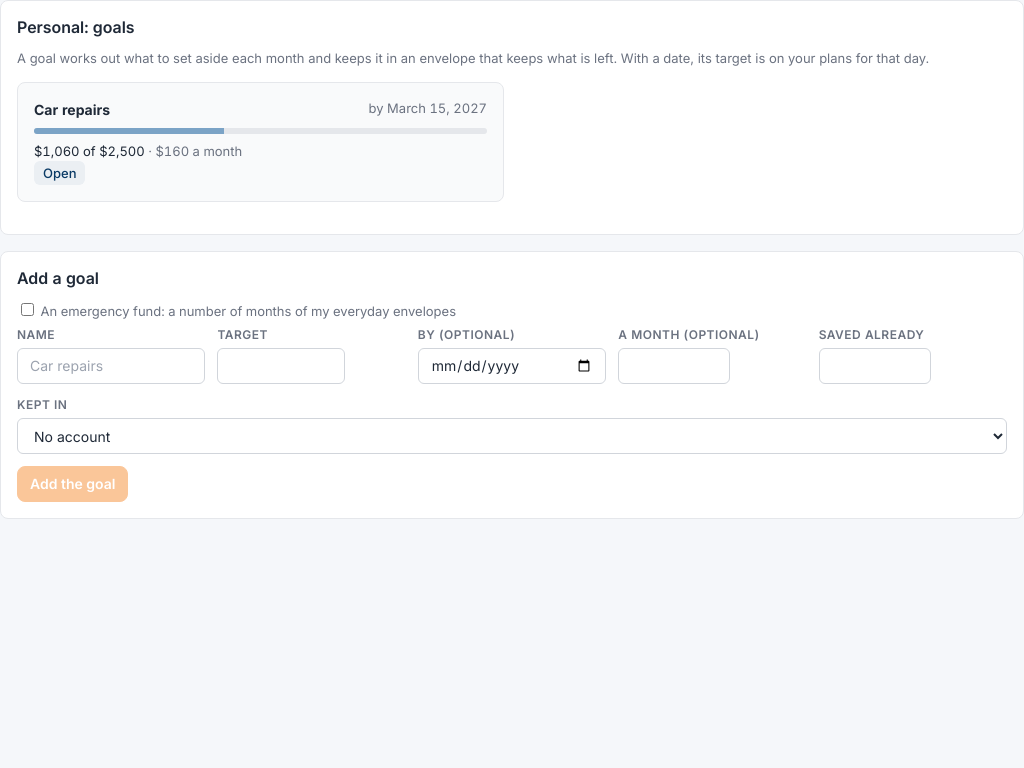
Test: goals (decision 14) › lists each goal with its progress, opens one, and adds one
This screenshot has width=1024, height=768.
Expected: the text "$1,060 of $2,500 · $160 a month" is shown, [34, 142, 242, 158]
Click the button "Open" at (60, 173), box [34, 161, 86, 185]
(page scrolled)
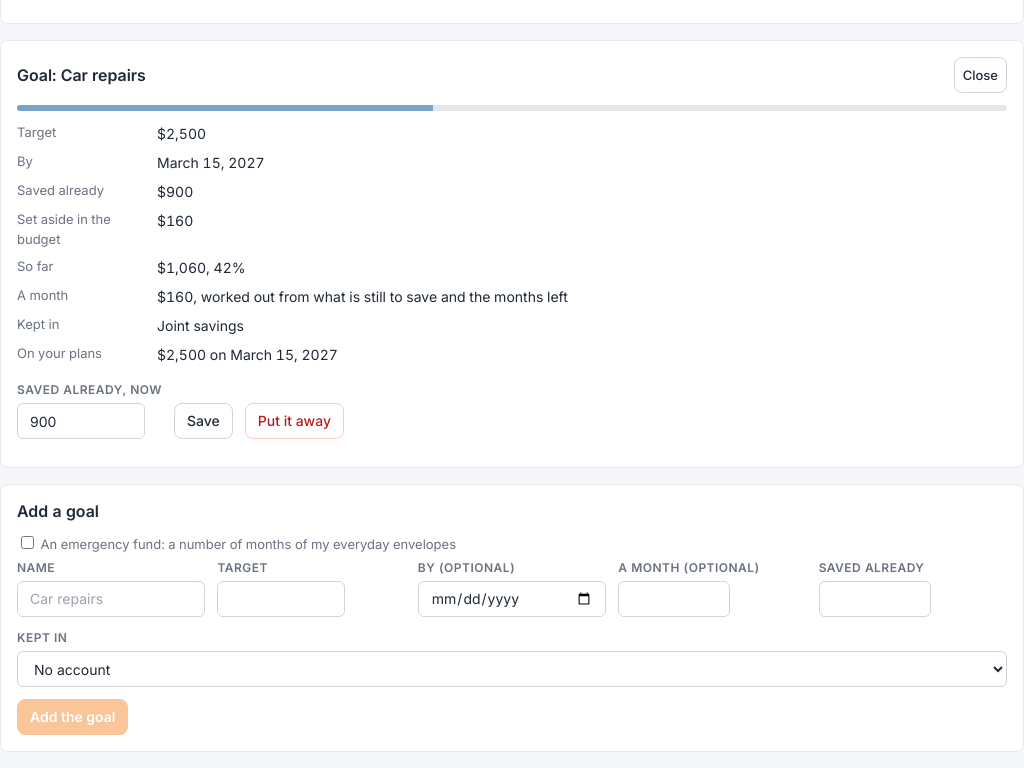
Result: the text "$2,500 on March 15, 2027" is shown at [157, 346, 338, 363]
Result: the text "Joint savings" is shown at [157, 317, 244, 334]
Type "Vacation" into the field named "Goal name" at (111, 598), box [17, 580, 205, 616]
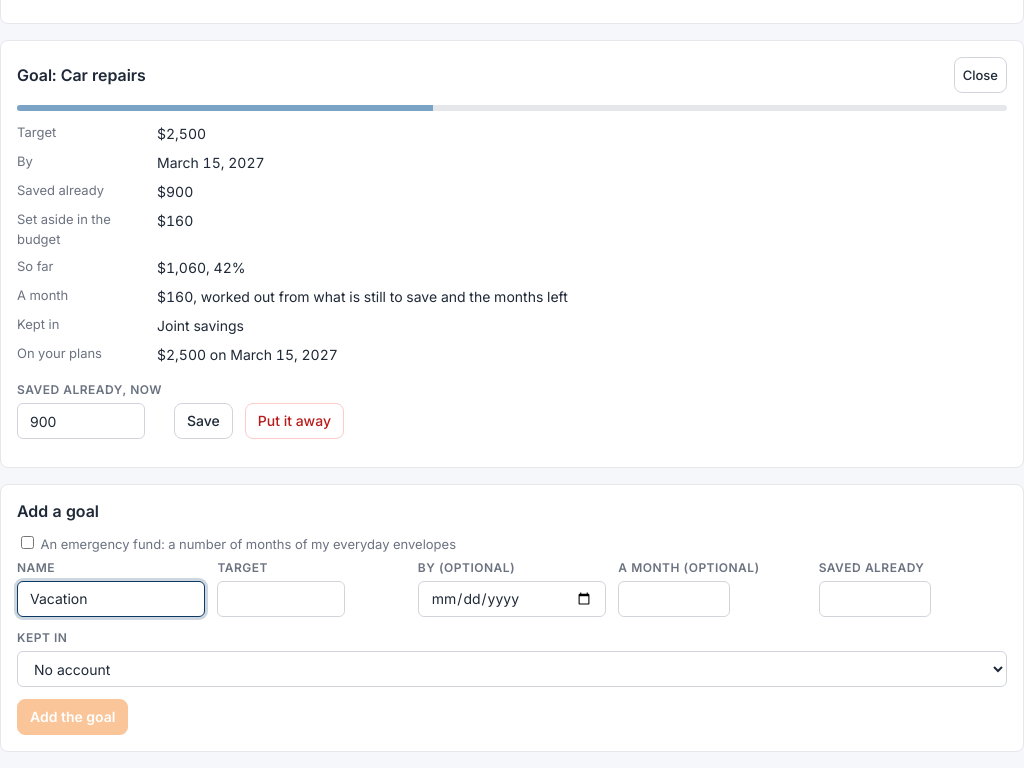
Type "4000" into the field named "Target amount" at (281, 598), box [217, 580, 345, 616]
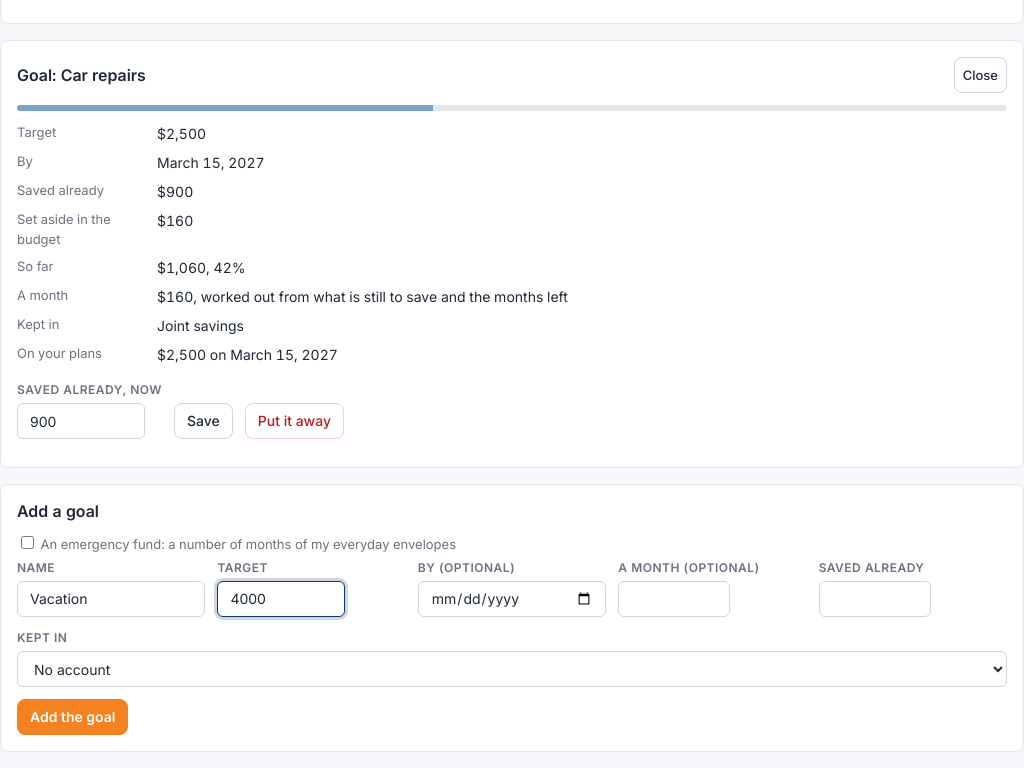
Type "250" into the field named "Amount a month" at (674, 598), box [618, 580, 730, 616]
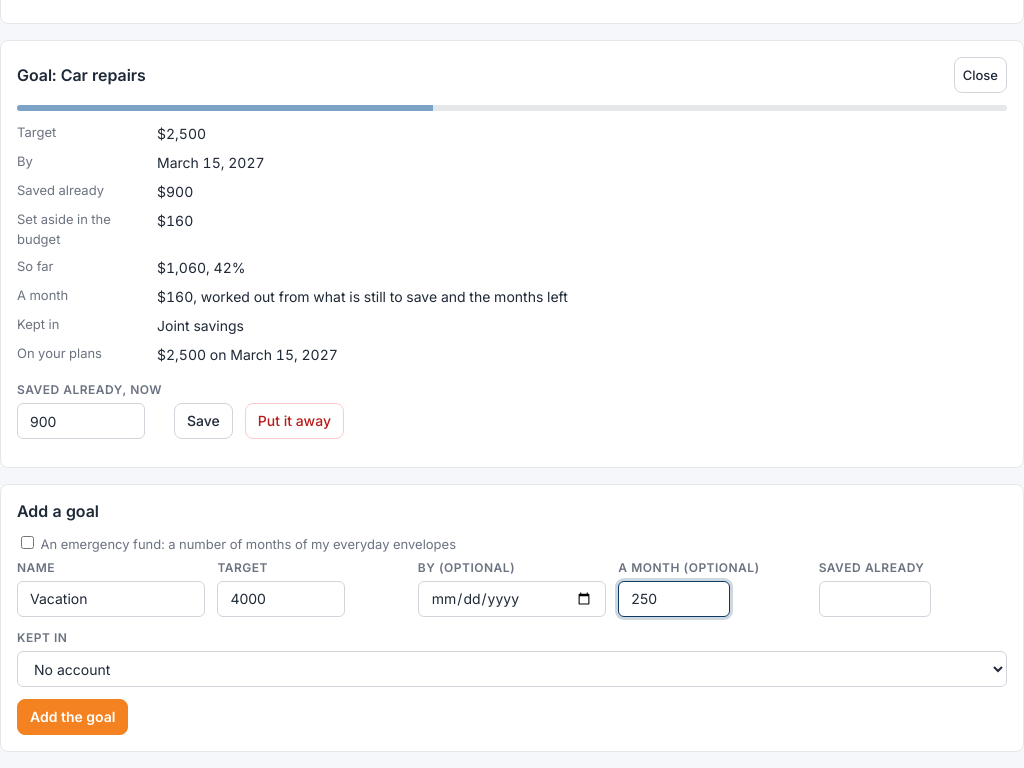
Click the button "Add the goal" at (73, 716), box [17, 698, 128, 734]
(page scrolled)
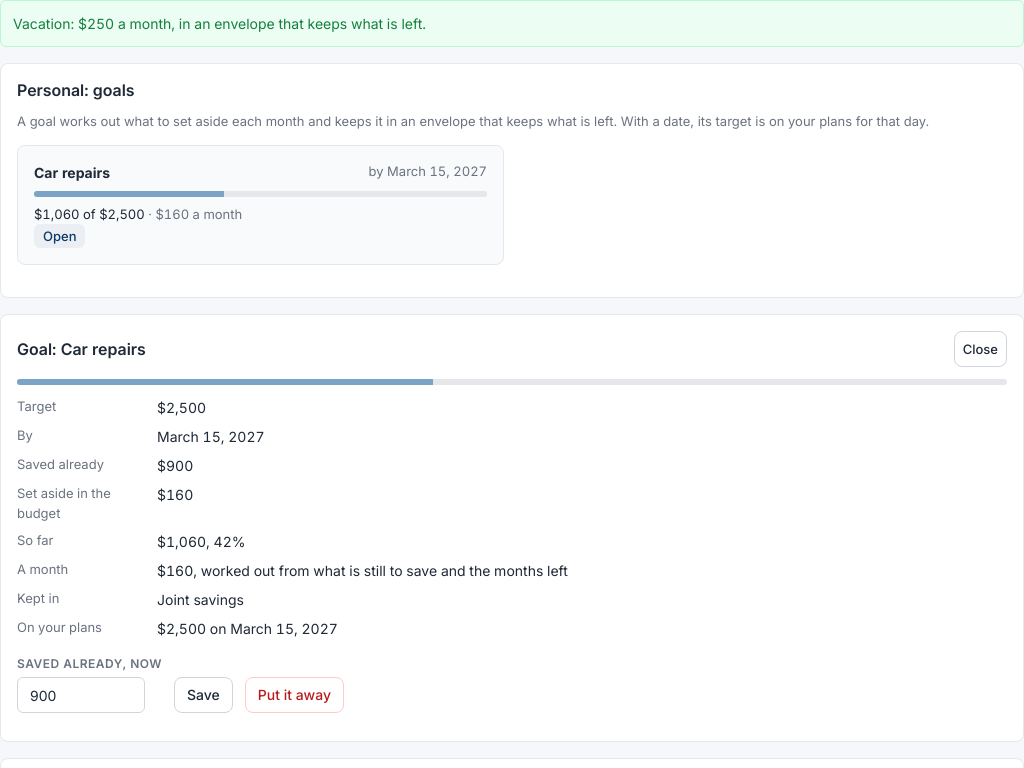
Result: the text "Vacation: $250 a month" is shown at [13, 15, 426, 32]
